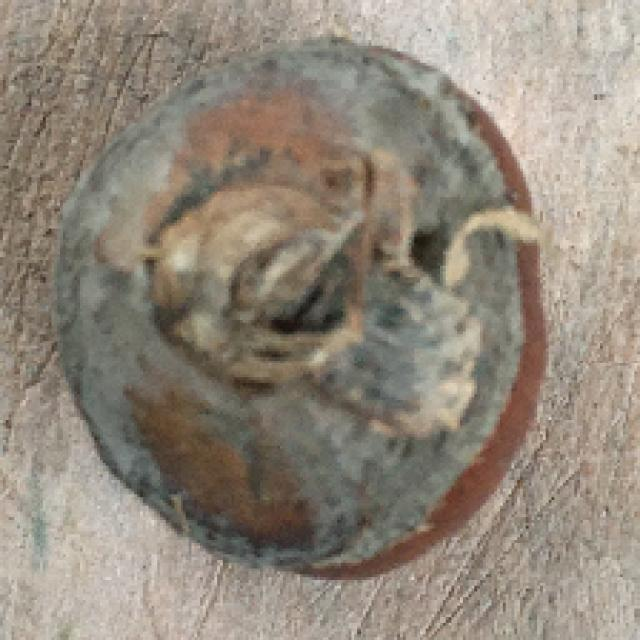damagedHazelnut: (75, 36, 552, 587)
